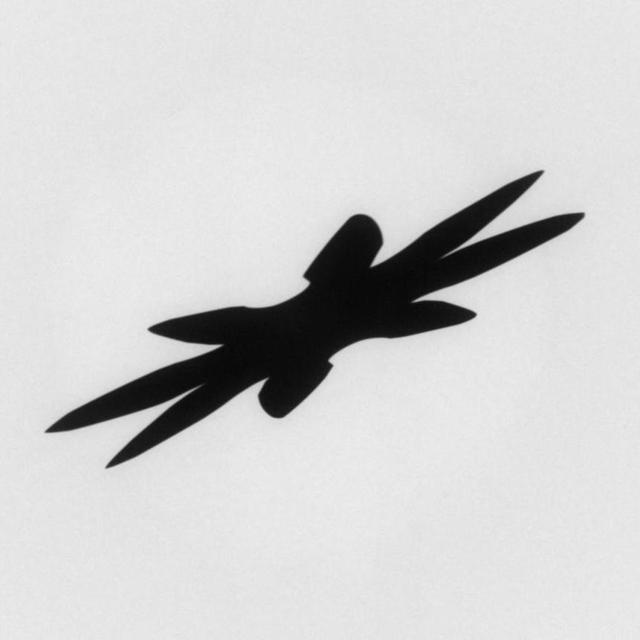shuriken: (40, 160, 589, 478)
